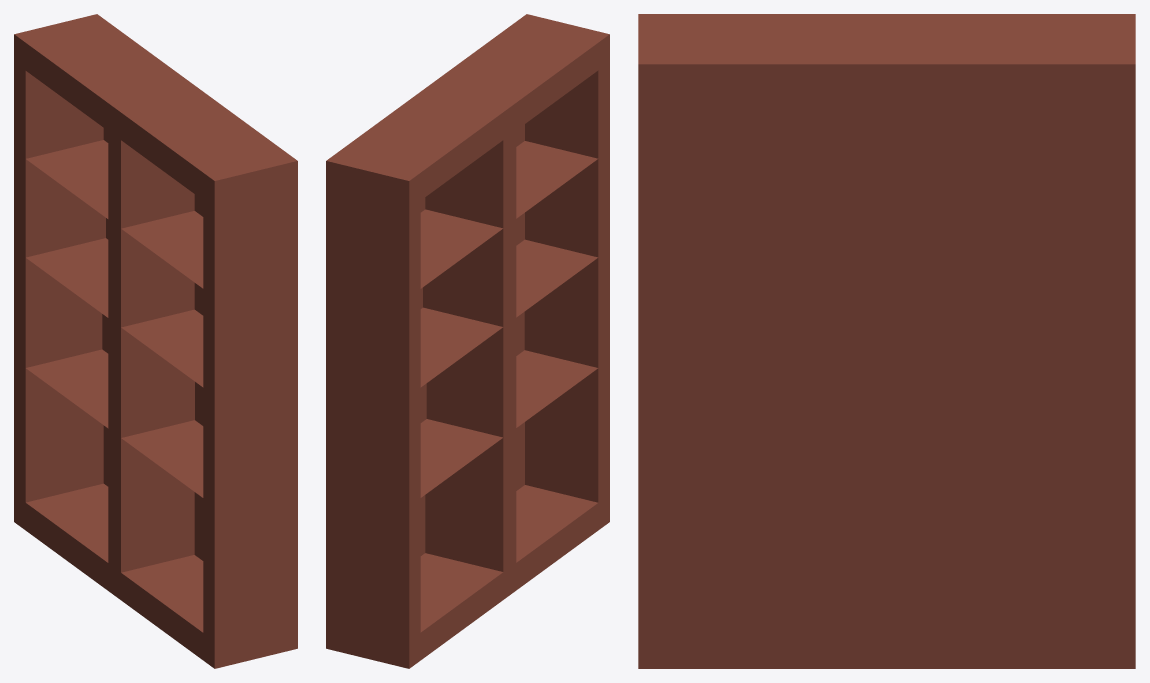
Rendered from bookshelf.dae.
The picture shows the model from 3 angles, left to right: view 1: azimuth 30°, elevation 25°; view 2: azimuth 150°, elevation 25°; view 3: azimuth 270°, elevation 25°; orthographic projection. The views are drawn at different scales.
Visible parts, largest first — view 1: Cube; view 2: Cube; view 3: Cube.
Boxes of the visible parts, left/top/right/bottom form: Cube: left=14, top=14, right=297, bottom=668; Cube: left=326, top=14, right=609, bottom=668; Cube: left=638, top=14, right=1135, bottom=668.
Bounding box in the file's own units: 2 × 8.37 × 11.22.
